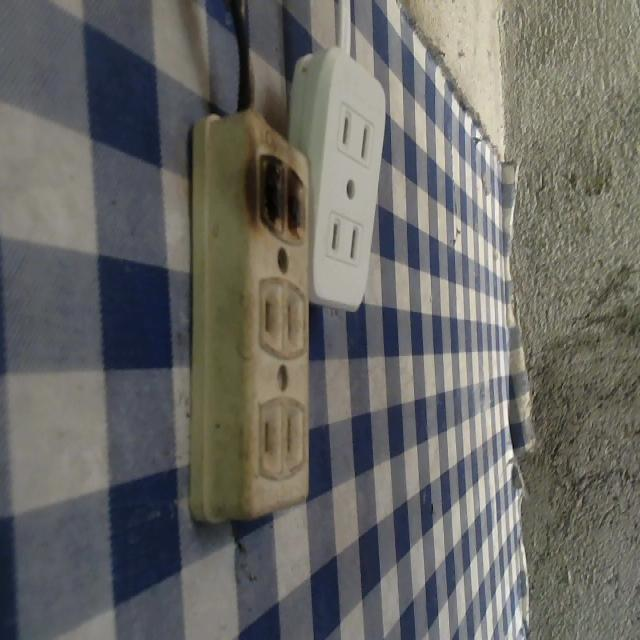-: (242, 138, 313, 258)
